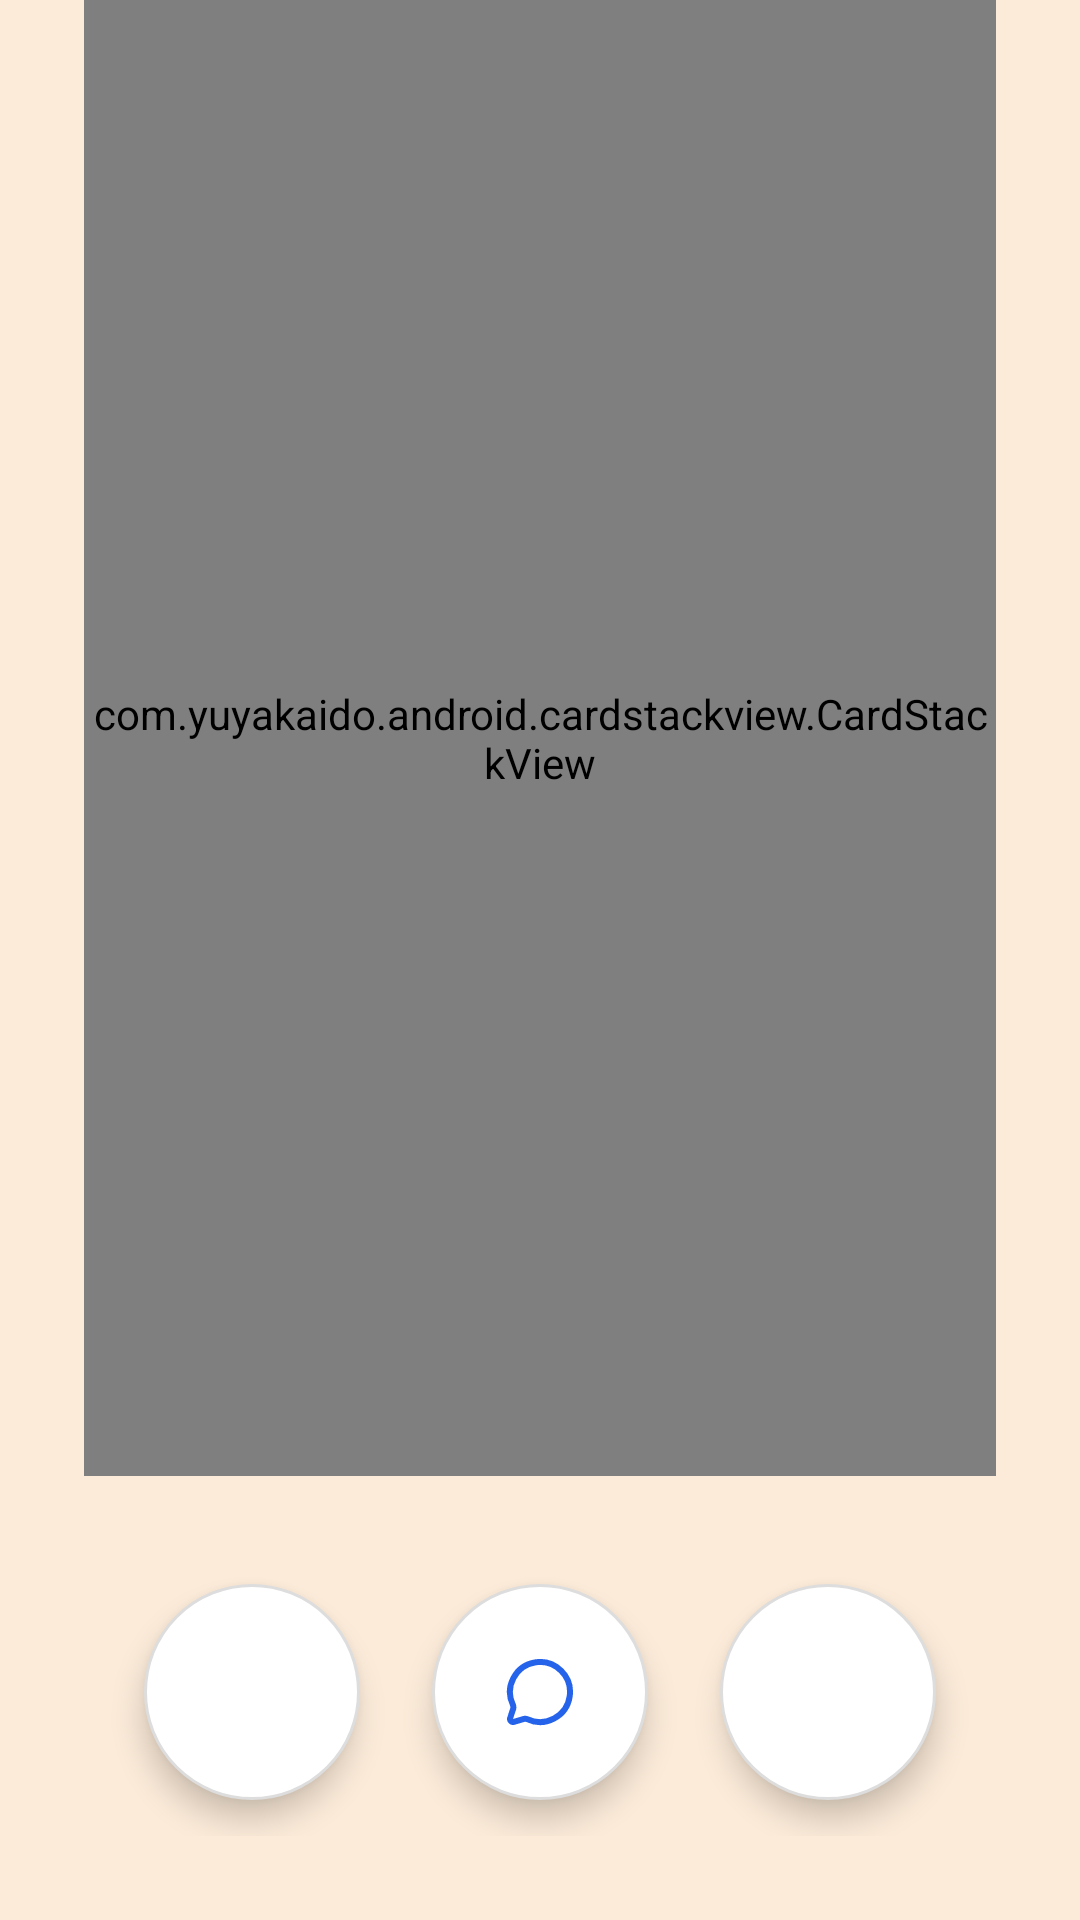

Point at icon controls on the screen. Image size 1080 x 1920, points as (x,y).
Message: (540,1692)
